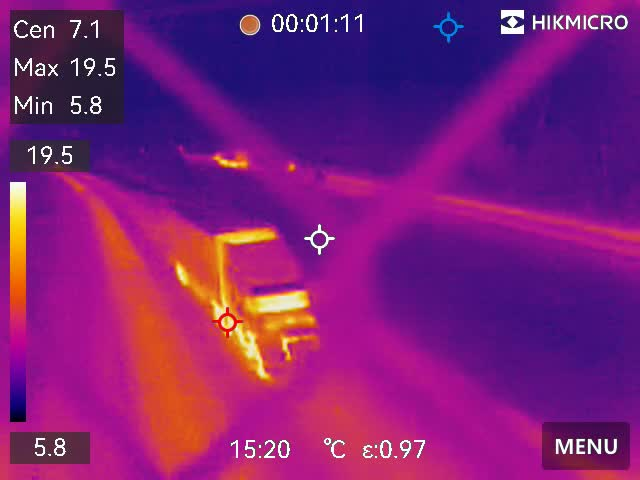heavyTruck: (168, 231, 324, 369)
